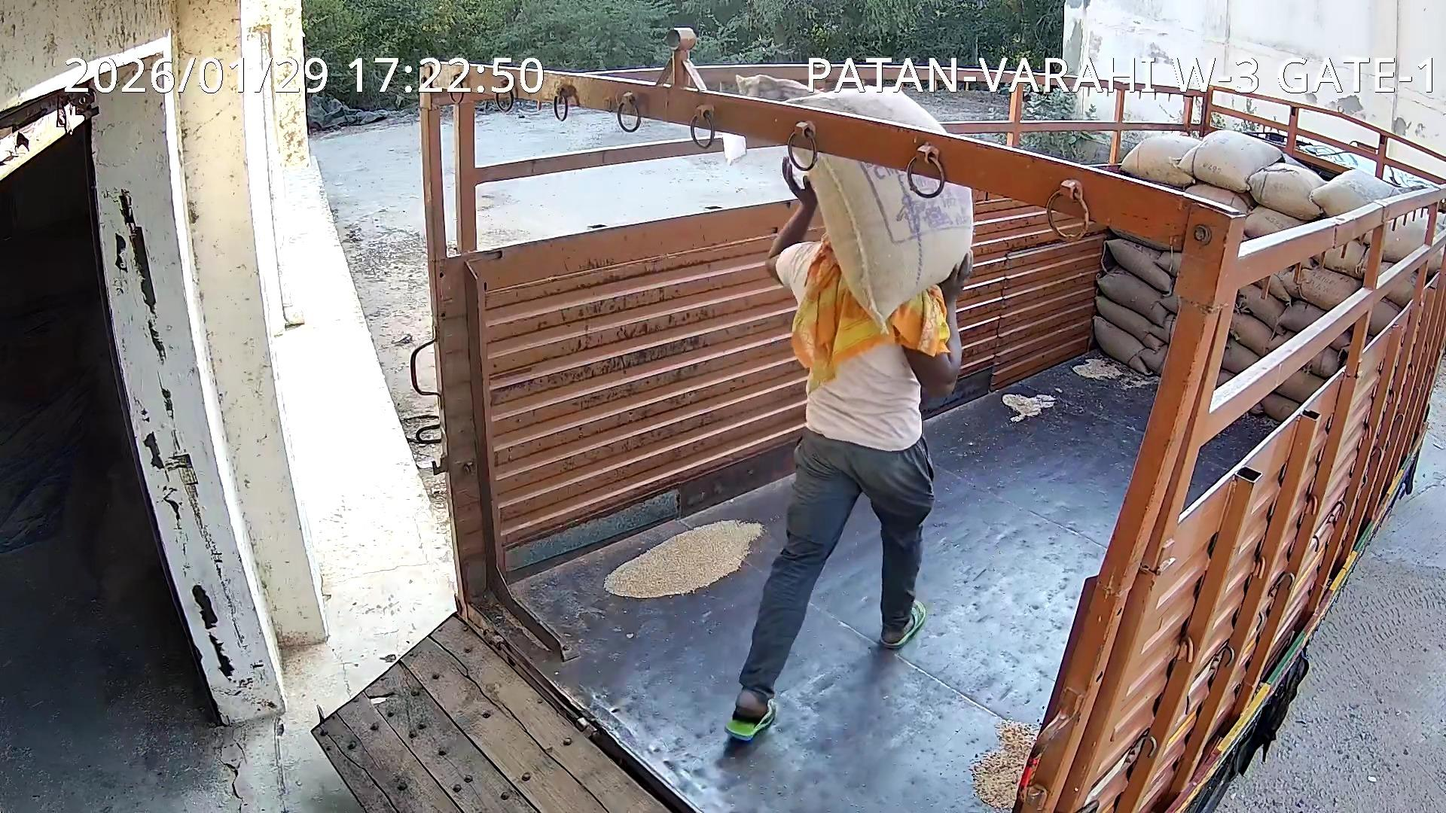Sack: (807, 144, 973, 323), (786, 88, 945, 134)
